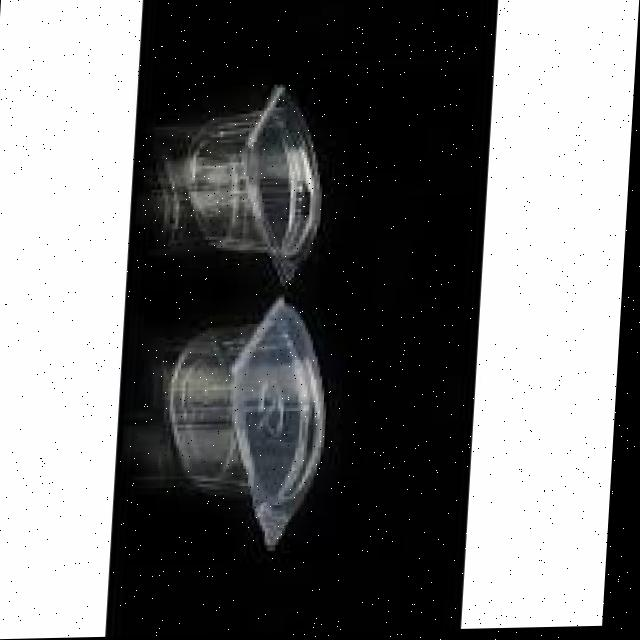disposable: (142, 289, 363, 552), (171, 96, 344, 296)
